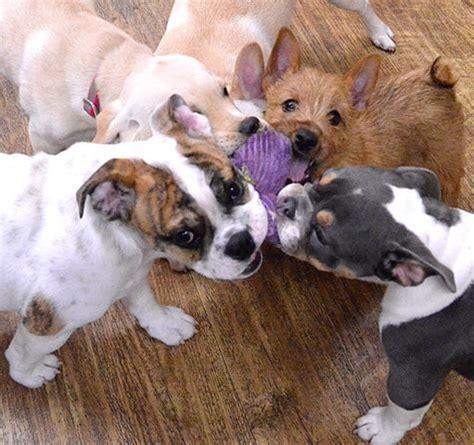dog: (1, 94, 267, 388), (278, 167, 474, 445), (1, 1, 259, 153), (263, 27, 464, 205)
